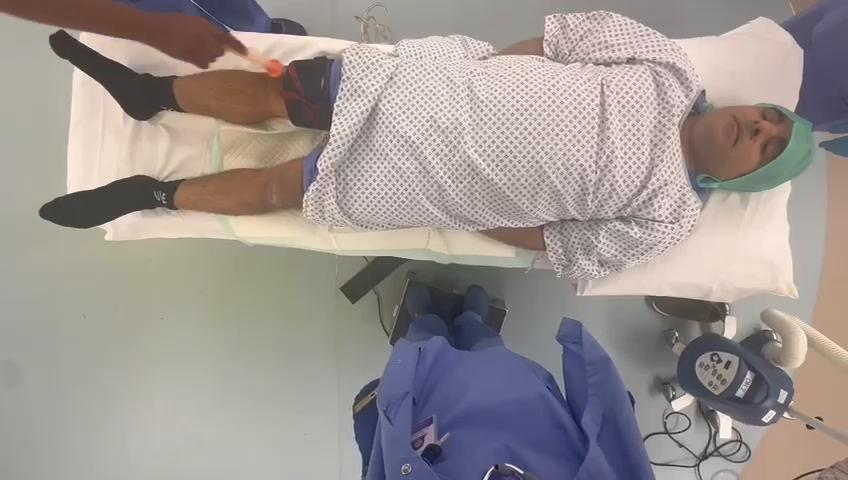bed: (41, 13, 815, 301)
patient: (40, 12, 815, 277)
prepstick: (245, 51, 285, 77)
tourniquet: (283, 56, 341, 128)
